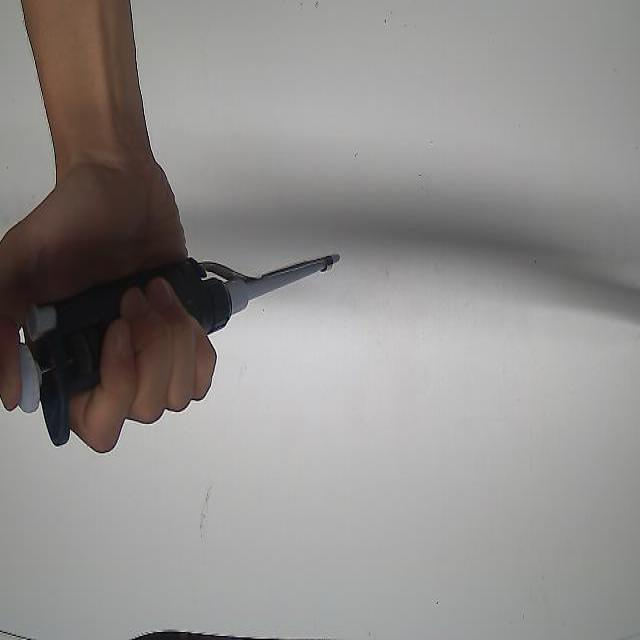Single Channel Pipettor: (11, 251, 342, 449)
